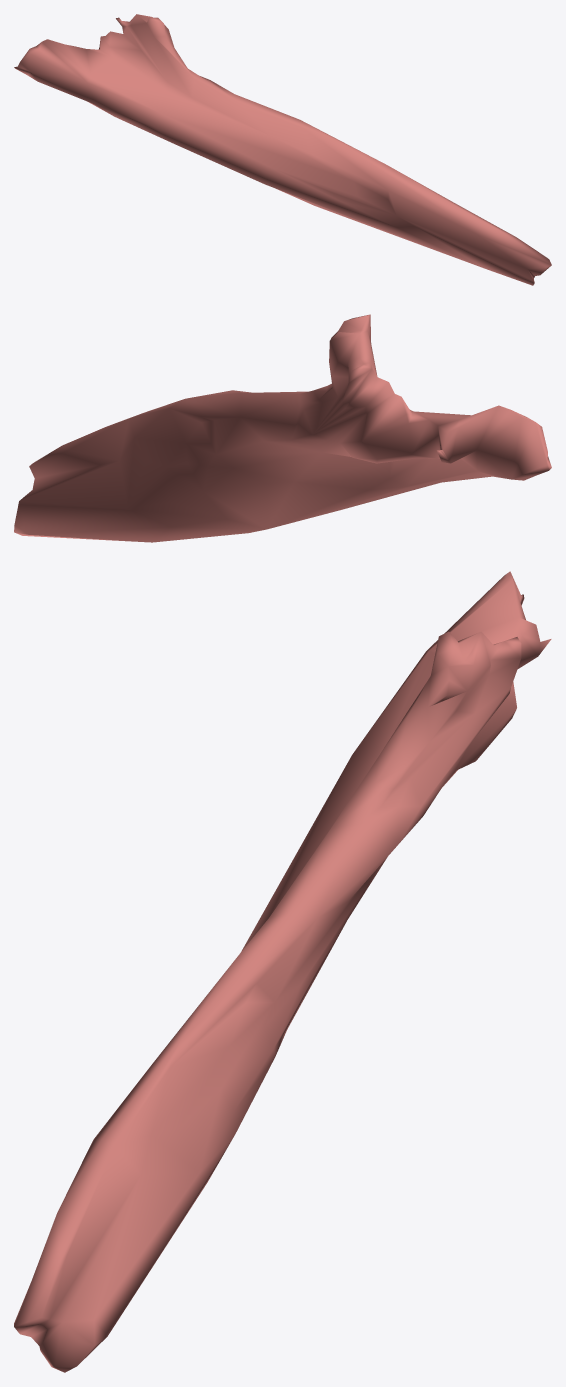
3 views of the same model, one above another, from view 1: azimuth 30°, elevation 25°; view 2: azimuth 150°, elevation 25°; view 3: azimuth 270°, elevation 25° (orthographic). The views are drawn at different scales.
Parts seen in each view (by area): view 1: ZA_0591b4ee2c76c9b0; view 2: ZA_0591b4ee2c76c9b0; view 3: ZA_0591b4ee2c76c9b0.
Boxes of the visible parts, x1=… form: ZA_0591b4ee2c76c9b0: x1=14, y1=14, x2=551, y2=285; ZA_0591b4ee2c76c9b0: x1=14, y1=314, x2=551, y2=542; ZA_0591b4ee2c76c9b0: x1=14, y1=571, x2=551, y2=1372.
Size of the model in its own units: 0.0463 by 0.0284 by 0.0287.
